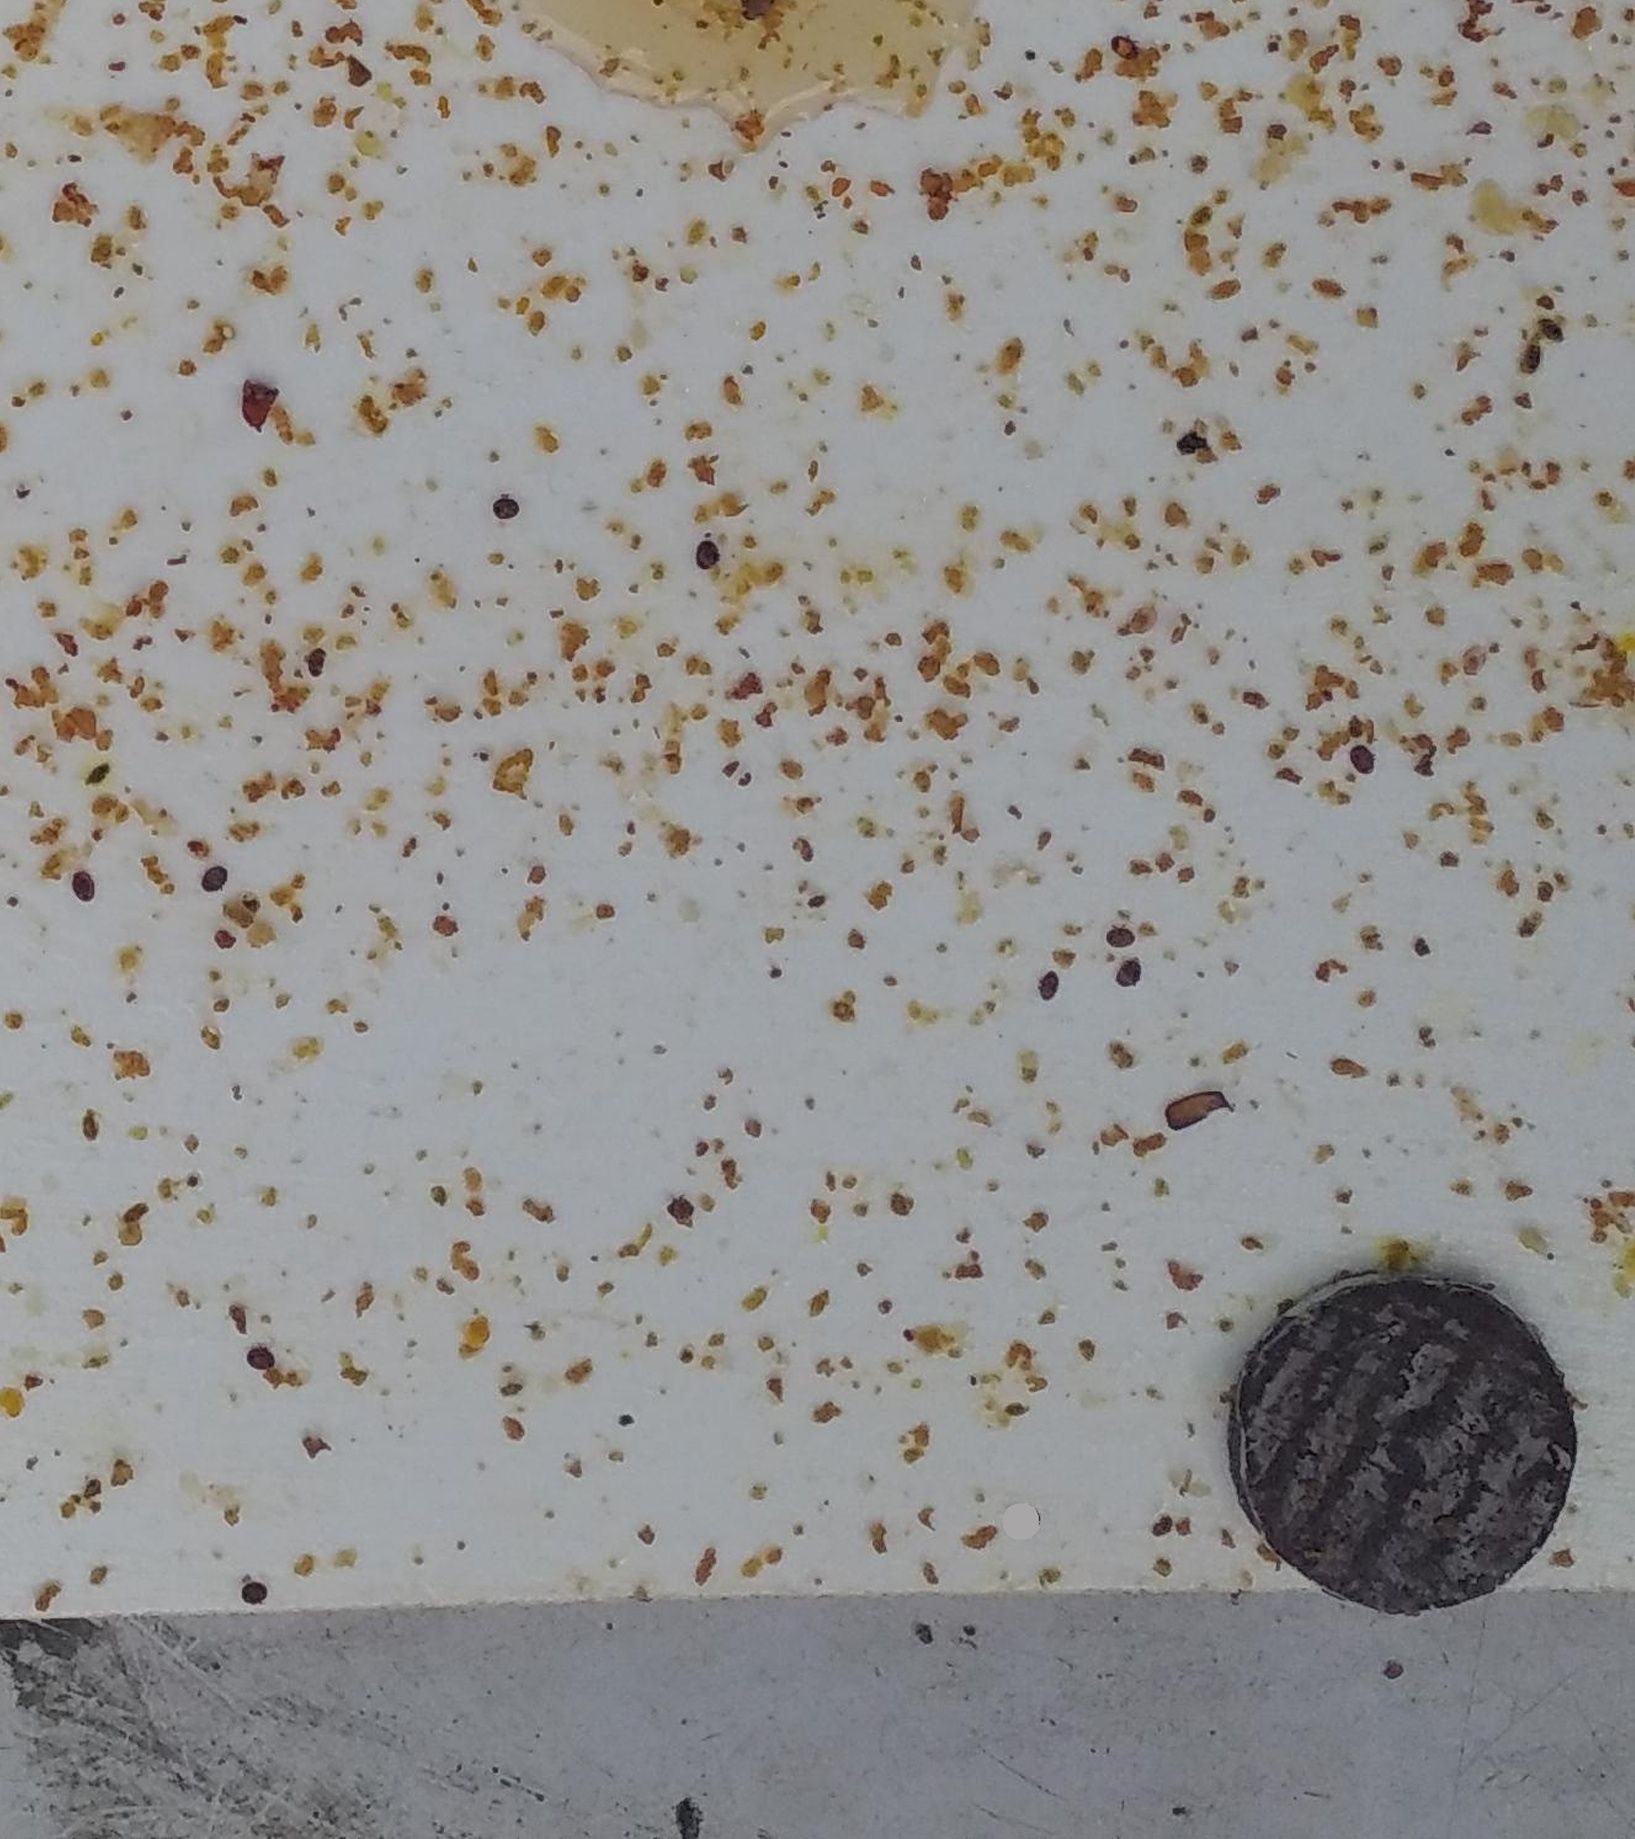Varroa: (1105, 24, 1146, 66), (660, 1187, 701, 1230), (1032, 971, 1068, 1007), (1348, 747, 1382, 781), (298, 652, 333, 687), (488, 489, 522, 522), (235, 1575, 268, 1609), (249, 1339, 282, 1372), (1111, 957, 1144, 990), (1105, 927, 1136, 958), (196, 867, 226, 898), (66, 868, 96, 900), (691, 541, 720, 571)
